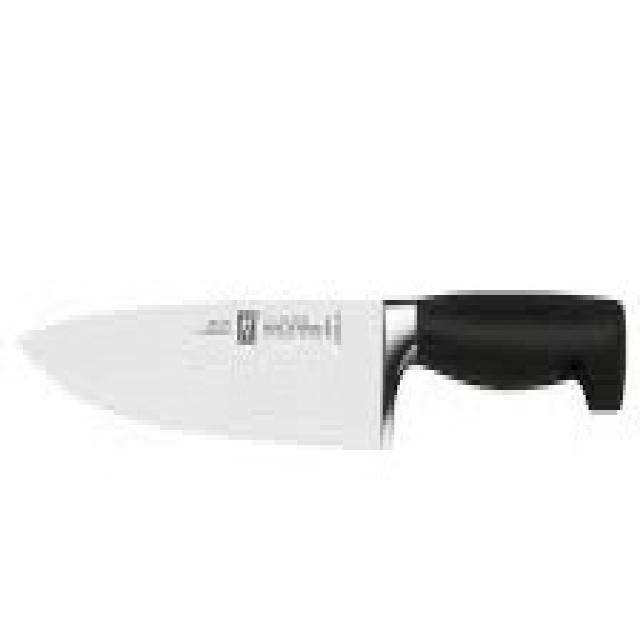knife: (15, 284, 632, 473)
